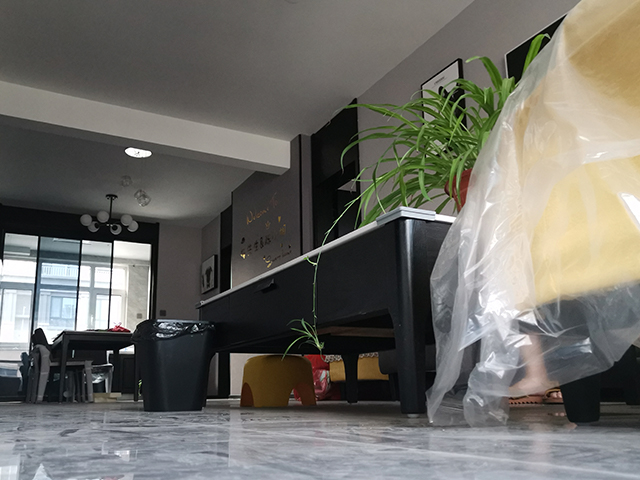stool: (17, 327, 96, 407), (238, 353, 319, 410)
table: (193, 204, 459, 416), (49, 329, 139, 405)
trashcan: (133, 317, 218, 413)
